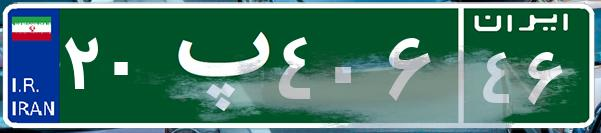0: (330, 28, 385, 110), (110, 28, 158, 105)
2: (57, 26, 110, 107)
4: (273, 28, 330, 110), (475, 38, 525, 113)
6: (385, 28, 445, 110), (525, 38, 570, 115)
پ: (158, 15, 273, 115)
